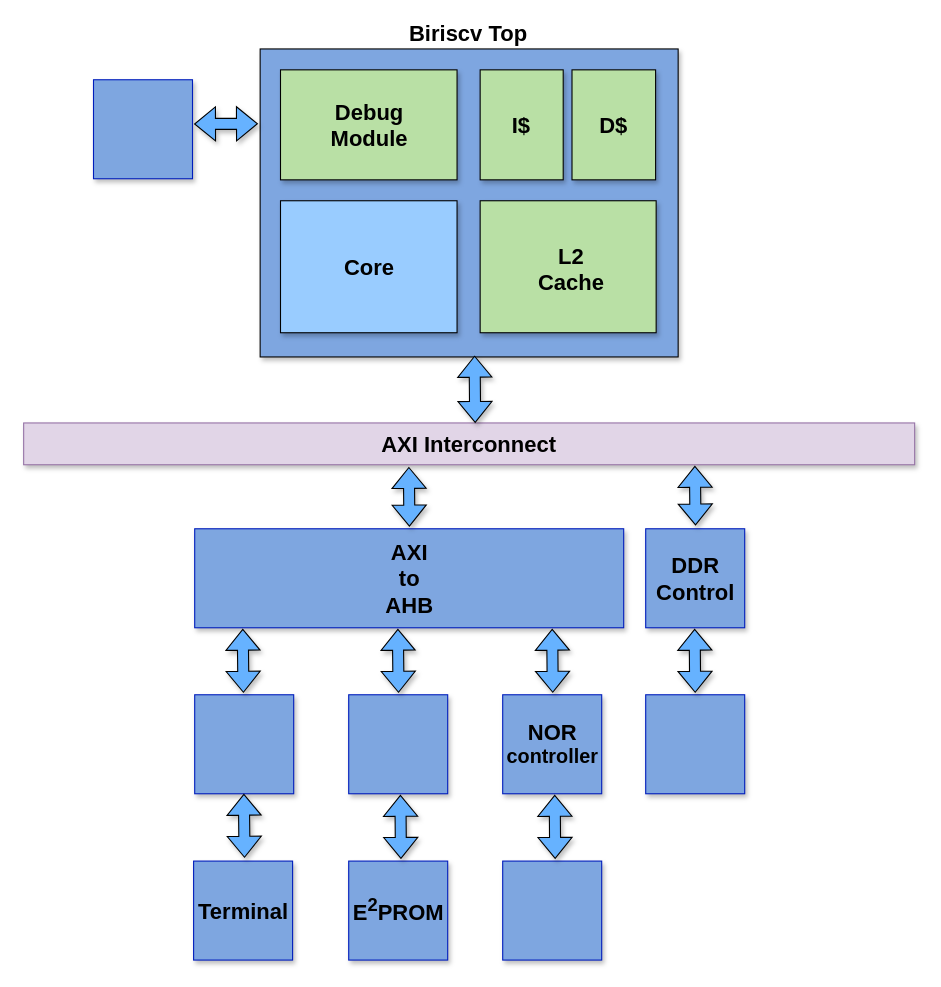
Image size: 941x987. Some labels were removed from this diagram. The centre of each missing label's shape, as x and y in pixels:
JTAG Master: the point at 143,130
NOR Flash: the point at 552,912
SPI: the point at 398,745
SRAM: the point at 695,745
UART: the point at 244,745
